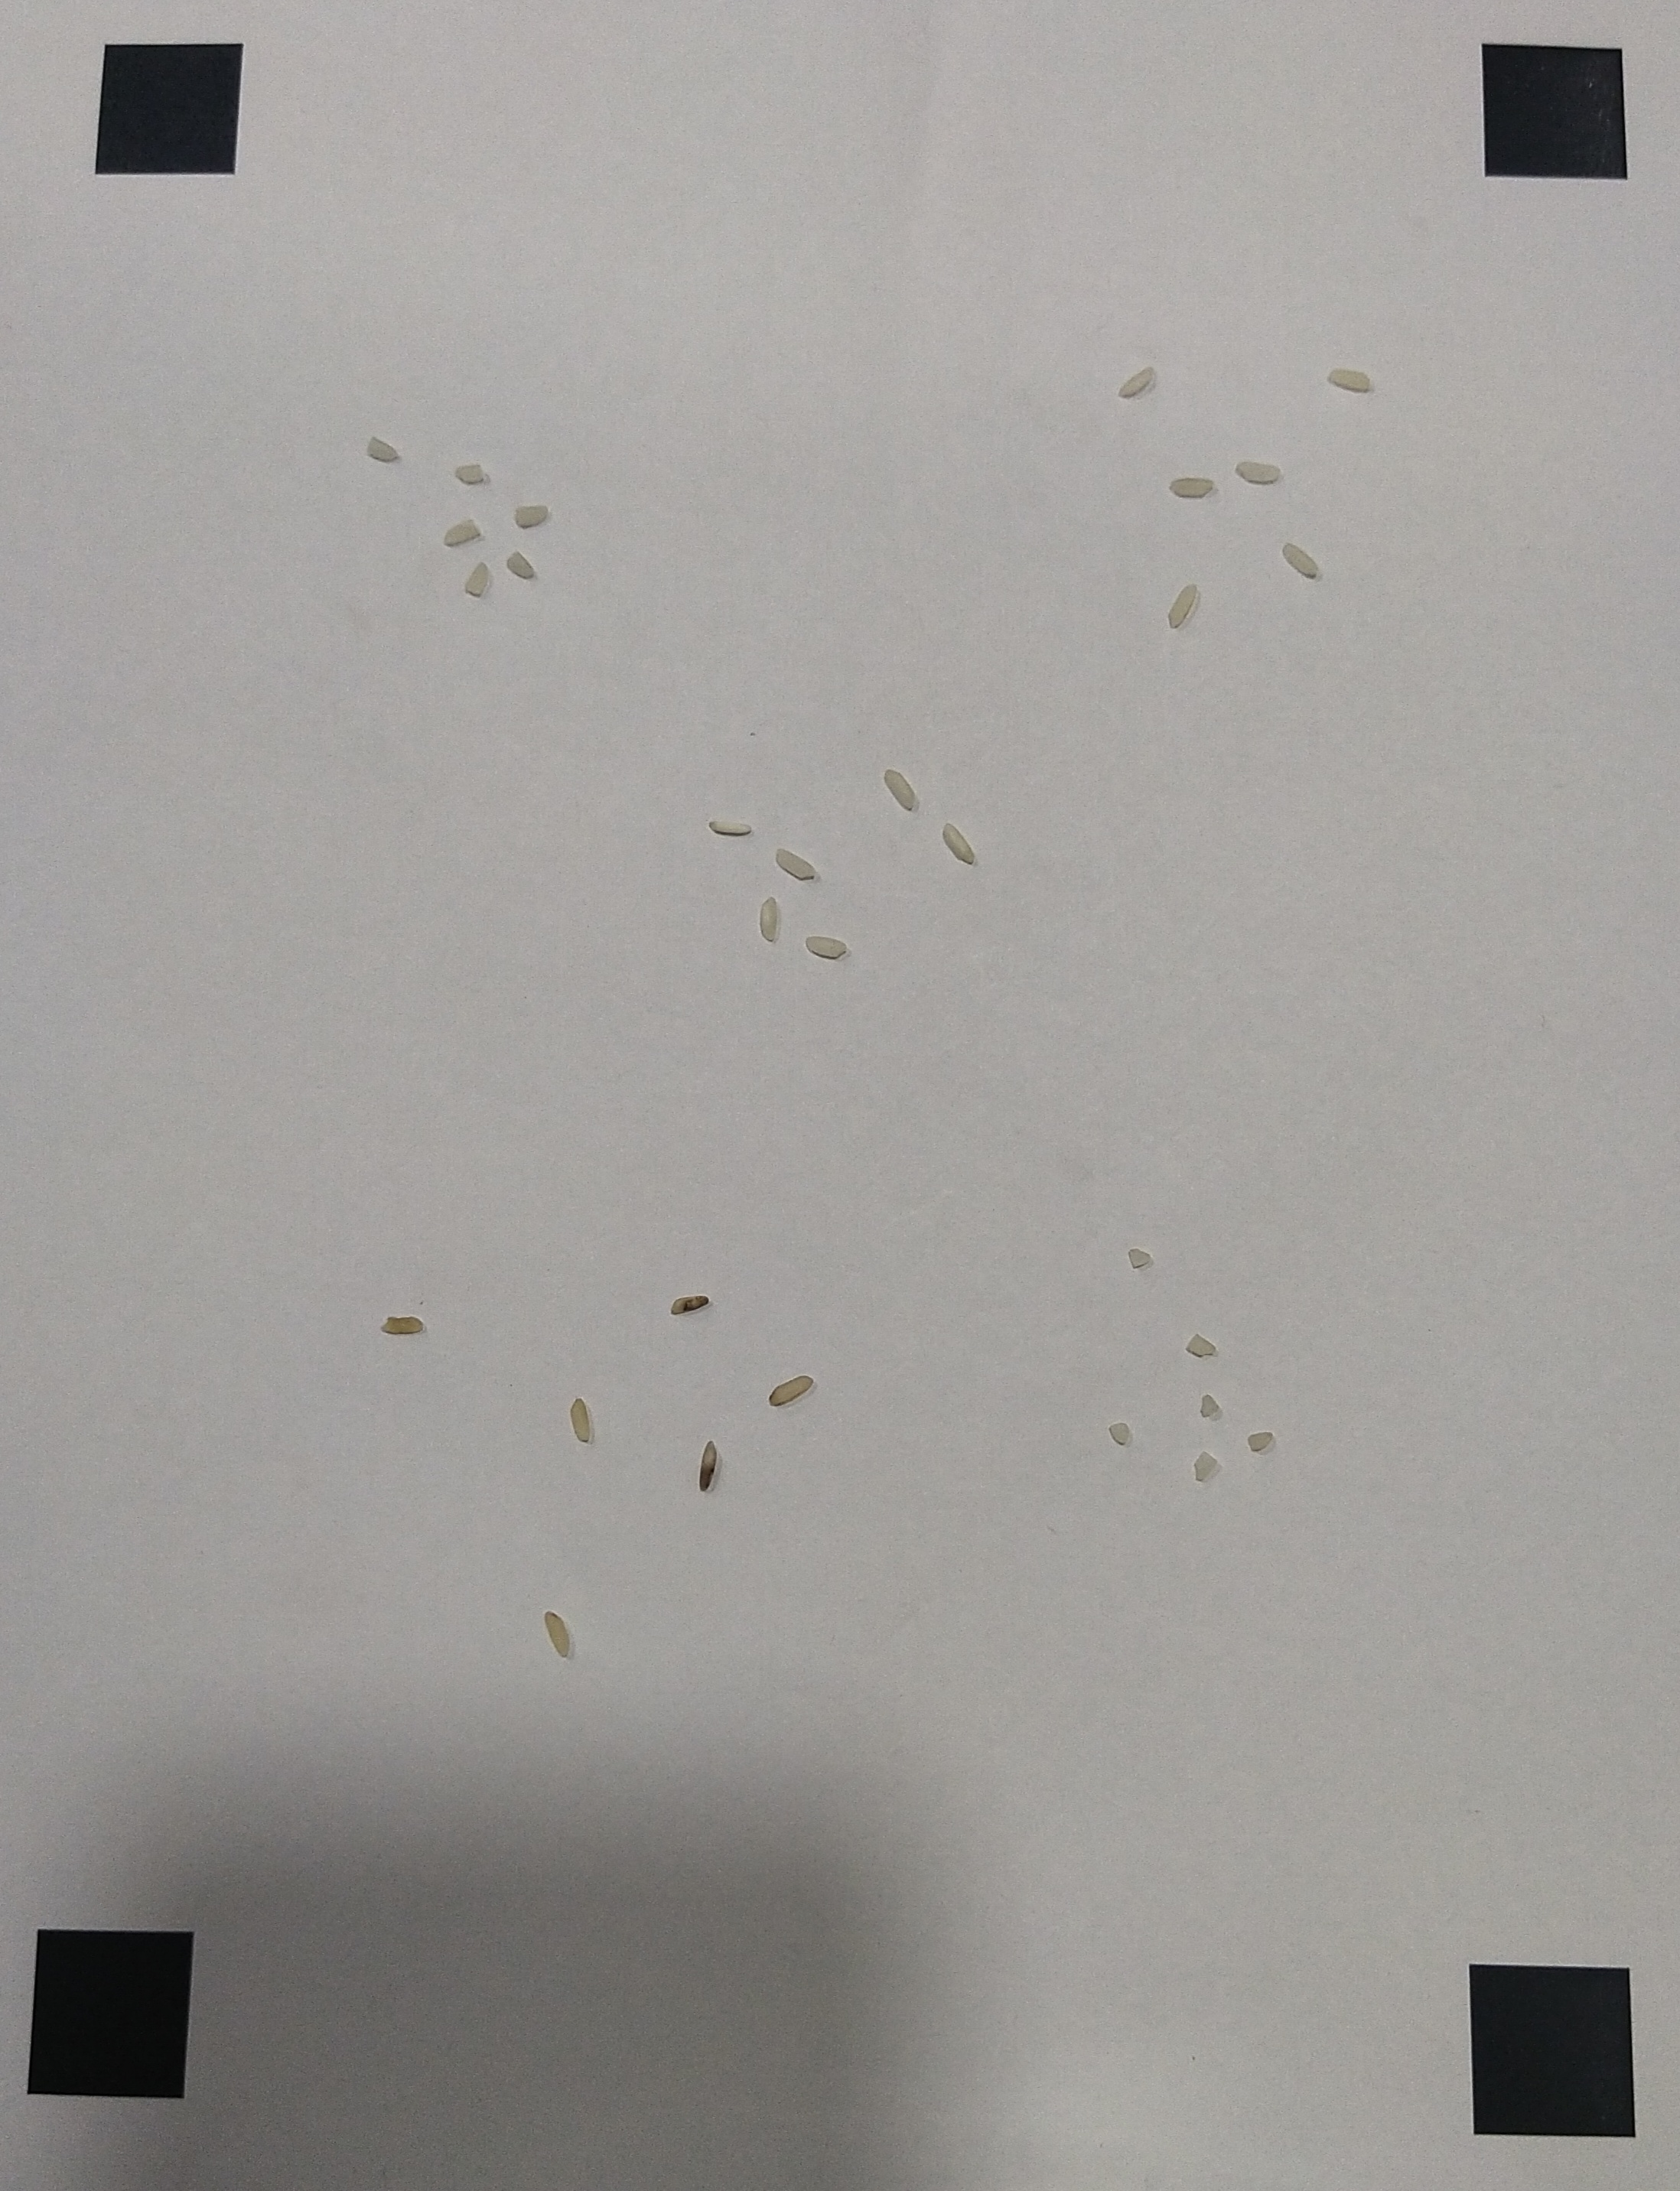broken: (1193, 1450, 1218, 1482), (1186, 1334, 1216, 1357), (1200, 1390, 1219, 1420), (1126, 1245, 1151, 1268), (1110, 1418, 1131, 1445)
chalky: (941, 819, 976, 864), (775, 847, 815, 880), (884, 766, 914, 810), (805, 933, 852, 960), (761, 894, 778, 942), (709, 817, 752, 836)
damage: (445, 519, 480, 547), (462, 563, 491, 596), (506, 547, 535, 577), (514, 501, 547, 526), (365, 437, 397, 460), (457, 460, 484, 482)
discolor: (768, 1372, 814, 1406), (544, 1609, 574, 1660), (570, 1395, 591, 1443), (379, 1314, 424, 1335), (671, 1291, 709, 1314), (699, 1439, 713, 1491)
good: (1168, 582, 1198, 630), (1232, 459, 1283, 485), (1283, 542, 1318, 577), (1119, 367, 1152, 400), (1329, 365, 1371, 392), (1168, 476, 1214, 497)
